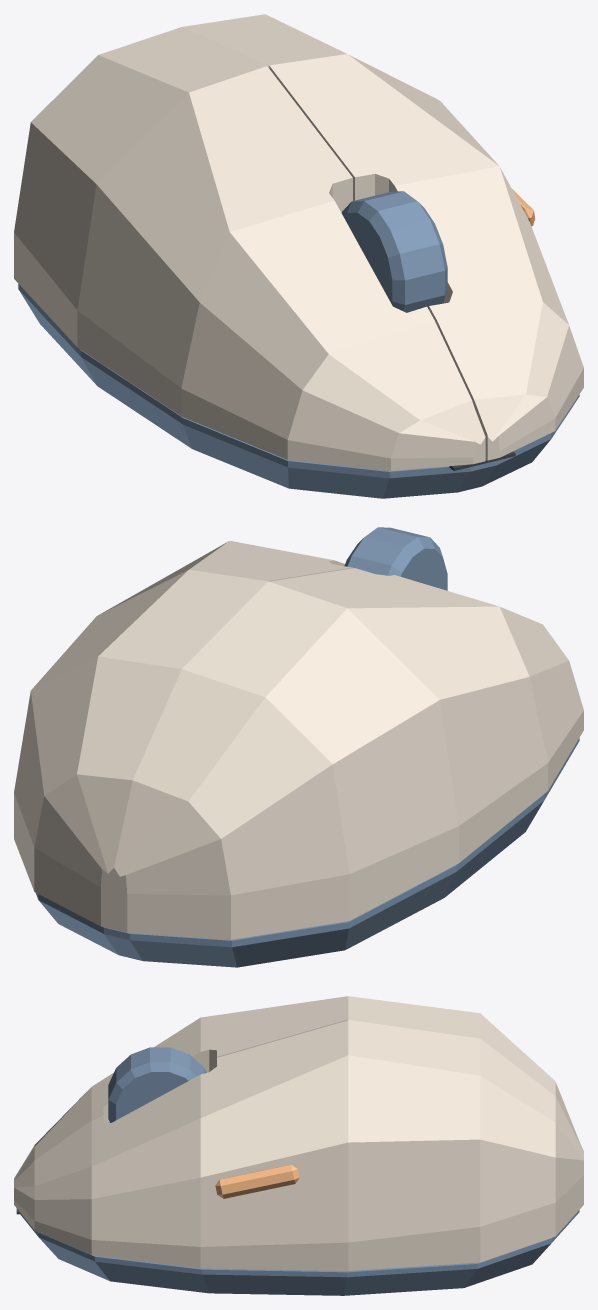
The model's file is mouse.glb.
3 renders of one model, top to bottom at view 1: azimuth 30°, elevation 25°; view 2: azimuth 150°, elevation 25°; view 3: azimuth 270°, elevation 25°, orthographic. The views are drawn at different scales.
Visible parts, largest first — view 1: 01 外壳 | 参考图折面; view 2: 01 外壳 | 参考图折面; view 3: 01 外壳 | 参考图折面.
Part boxes in pixels (<box>): 01 外壳 | 参考图折面: <box>14,14,583,498</box>; 01 外壳 | 参考图折面: <box>14,527,583,967</box>; 01 外壳 | 参考图折面: <box>14,996,583,1295</box>.
Size of the model in its own units: 1.3 by 0.9 by 2.2.
